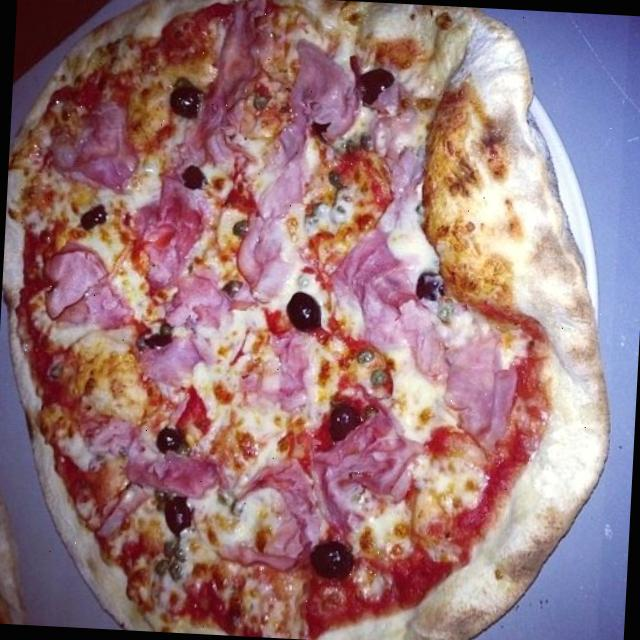Olive: (270, 280, 332, 350), (333, 60, 408, 114), (300, 524, 363, 588), (65, 193, 118, 252), (314, 398, 361, 455), (400, 264, 450, 310), (156, 493, 202, 541), (164, 80, 213, 124), (174, 160, 211, 202), (138, 322, 172, 364), (244, 84, 284, 118), (150, 423, 183, 455), (317, 162, 352, 190), (344, 346, 384, 370), (223, 217, 257, 240), (362, 368, 393, 387), (166, 558, 182, 589), (162, 536, 178, 561), (154, 555, 168, 580), (174, 552, 188, 560)
pizza: (2, 0, 606, 640)
